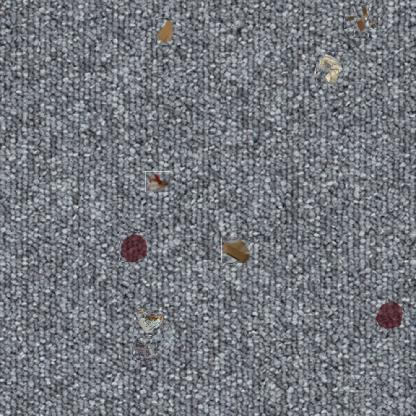dirty: (314, 54, 344, 84), (222, 237, 250, 264), (135, 312, 161, 338), (154, 18, 176, 46), (349, 9, 374, 33), (133, 337, 155, 361), (145, 171, 170, 192)
liquid: (374, 300, 404, 330), (119, 232, 147, 262)
